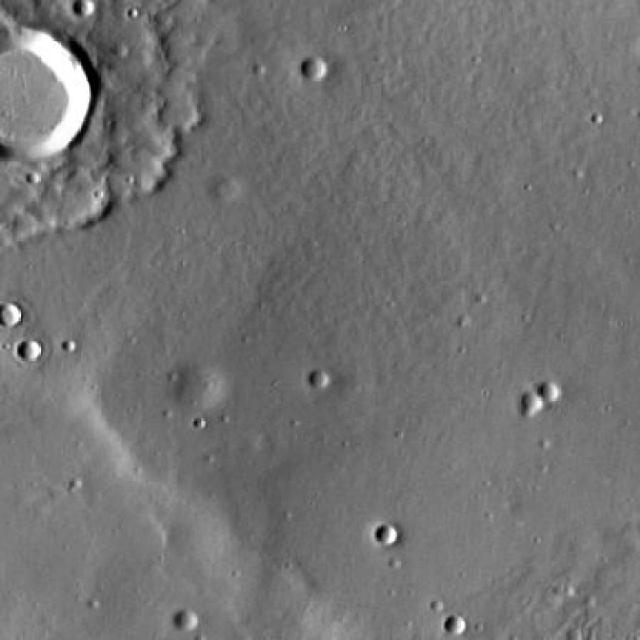crater: (0, 0, 640, 640), (0, 22, 92, 159), (172, 362, 226, 409), (213, 178, 244, 205), (302, 53, 330, 78), (176, 610, 204, 635), (540, 378, 566, 402), (523, 391, 549, 414), (22, 340, 47, 362), (313, 369, 338, 391), (378, 524, 400, 545), (0, 300, 20, 323), (447, 614, 468, 634), (80, 0, 100, 17)
